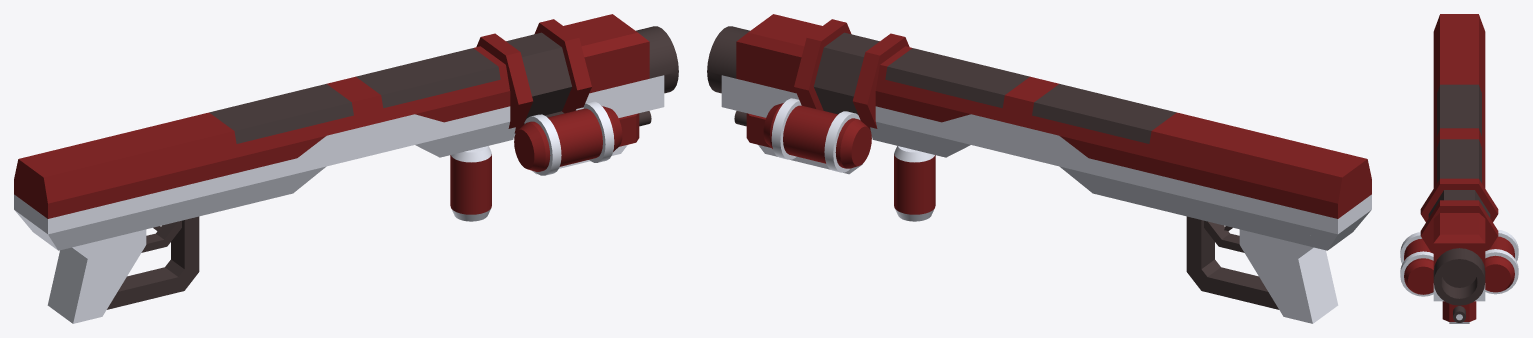
File: Flamethrower1.fbx
The picture shows the model from 3 angles, left to right: view 1: azimuth 30°, elevation 25°; view 2: azimuth 150°, elevation 25°; view 3: azimuth 270°, elevation 25°; orthographic projection. The views are drawn at different scales.
Visible parts, largest first — view 1: mediumBlaster_centerDetail (×2), mediumBlaster_handleGuard, blaster_barrelLarge, clipBarrel_small, attachment_barrel, mediumBlaster_back, attachment_handle, attachment_laser; view 2: mediumBlaster_centerDetail (×2), mediumBlaster_handleGuard, blaster_barrelLarge, clipBarrel_small, attachment_barrel, mediumBlaster_back, attachment_handle, attachment_laser; view 3: mediumBlaster_centerDetail (×2), blaster_barrelLarge, attachment_barrel (×2), clipBarrel_small, mediumBlaster_handleGuard, attachment_laser, mediumBlaster_back.
Part boxes in pixels (x1,y1,x2,y2): mediumBlaster_centerDetail (×2): (195,46,515,211); mediumBlaster_handleGuard: (47,116,223,323); blaster_barrelLarge: (563,14,678,117); clipBarrel_small: (476,19,591,132); attachment_barrel: (514,101,622,175); mediumBlaster_back: (14,152,77,250); attachment_handle: (450,123,524,221); attachment_laser: (514,111,651,174); mediumBlaster_centerDetail (×2): (870,46,1190,211); mediumBlaster_handleGuard: (1162,116,1338,323); blaster_barrelLarge: (707,14,822,117); clipBarrel_small: (794,19,909,132); attachment_barrel: (763,98,871,172); mediumBlaster_back: (1308,152,1371,250); attachment_handle: (894,146,935,221); attachment_laser: (734,111,871,174); mediumBlaster_centerDetail (×2): (1433,79,1485,188); blaster_barrelLarge: (1433,213,1485,305); attachment_barrel (×2): (1400,229,1518,296); clipBarrel_small: (1420,178,1498,253); mediumBlaster_handleGuard: (1433,25,1485,96); attachment_laser: (1442,301,1476,323); mediumBlaster_back: (1433,14,1485,41).
Size of the model in its own units: 21.5 by 5.3 by 4.6.
